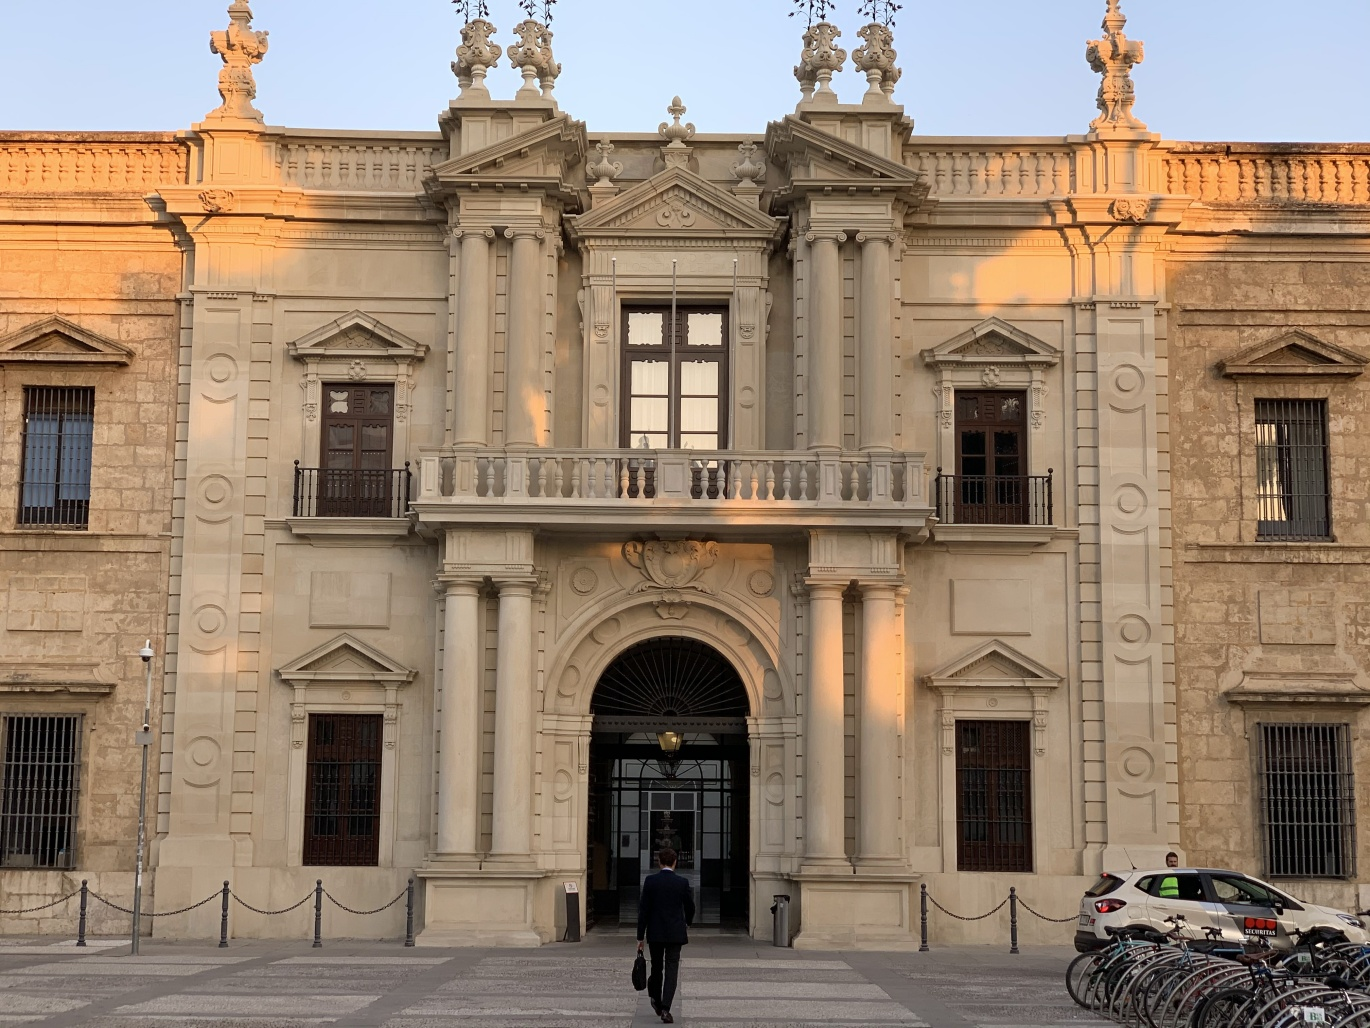arco-medio-punto: (570, 608, 777, 743)
fronton: (569, 164, 785, 243), (1219, 325, 1370, 387), (271, 628, 419, 686), (1, 309, 137, 368), (923, 314, 1072, 368), (283, 308, 426, 363), (925, 637, 1066, 693)
fronton-partido: (425, 104, 930, 207)
vano-adintelado: (594, 272, 751, 487), (938, 698, 1063, 879), (1242, 694, 1364, 878), (282, 688, 405, 867), (931, 371, 1061, 528), (1, 680, 106, 868), (294, 367, 412, 519), (1235, 381, 1352, 536), (6, 365, 111, 530)
